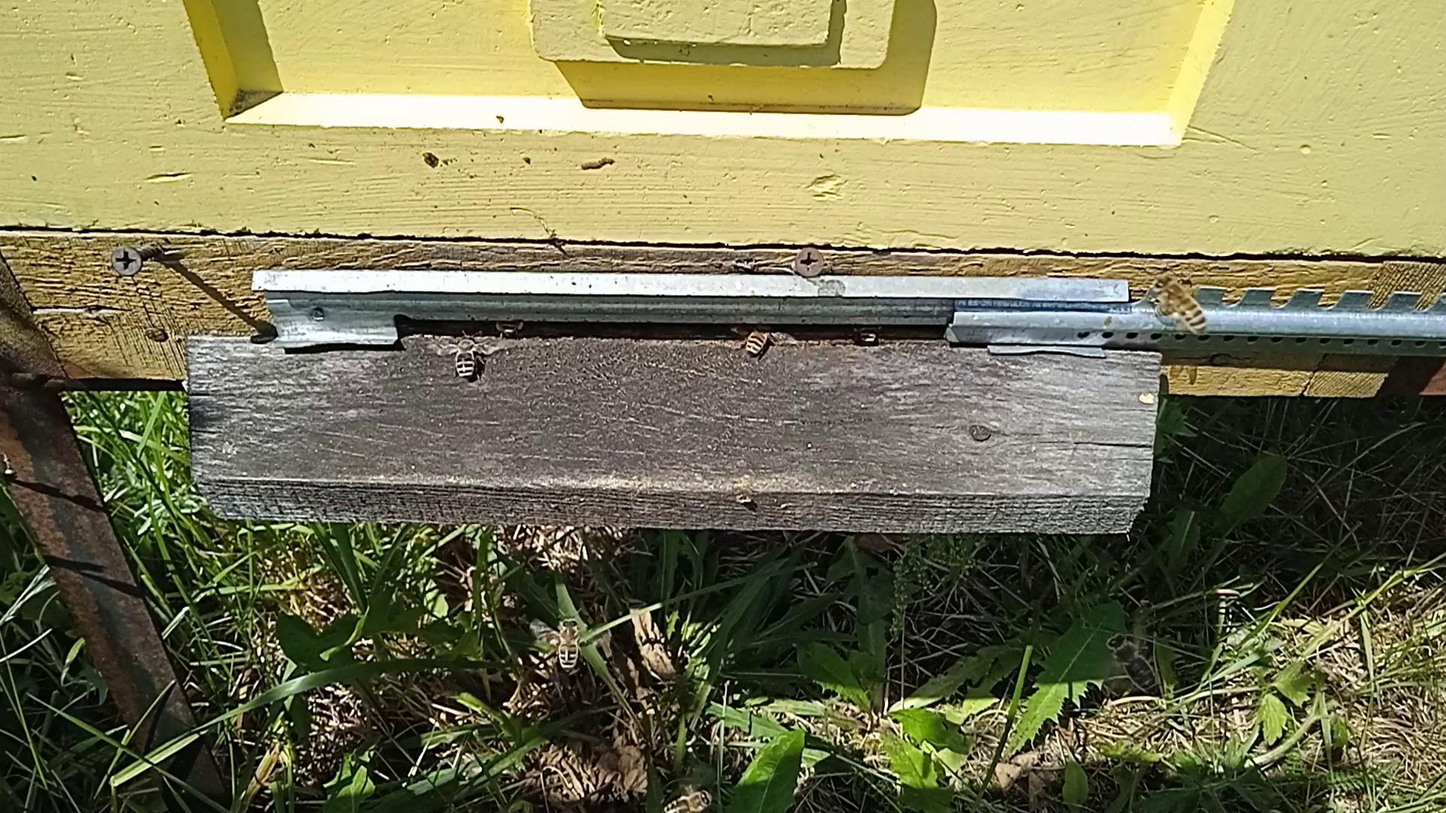worker-bee: (1154, 276, 1209, 335), (1108, 632, 1159, 693), (452, 333, 484, 382), (555, 617, 582, 675), (1155, 279, 1194, 315), (660, 789, 715, 813), (740, 325, 777, 358), (853, 324, 883, 346), (493, 319, 526, 339)
